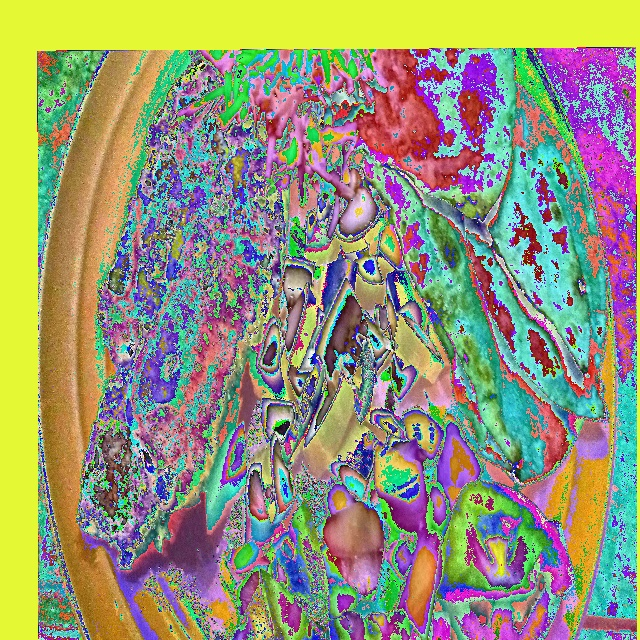background: (77, 54, 610, 639)
